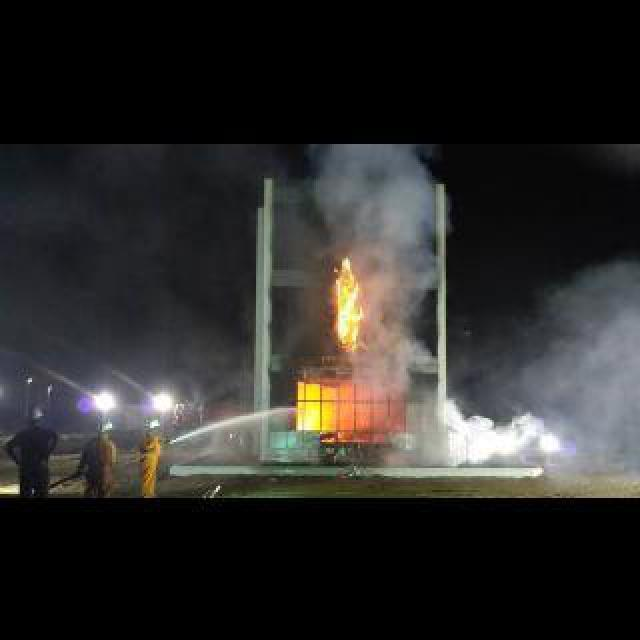Fire: (332, 242, 368, 350), (290, 376, 342, 438)
Smoke: (308, 142, 448, 242), (376, 396, 550, 470), (364, 244, 440, 390)
